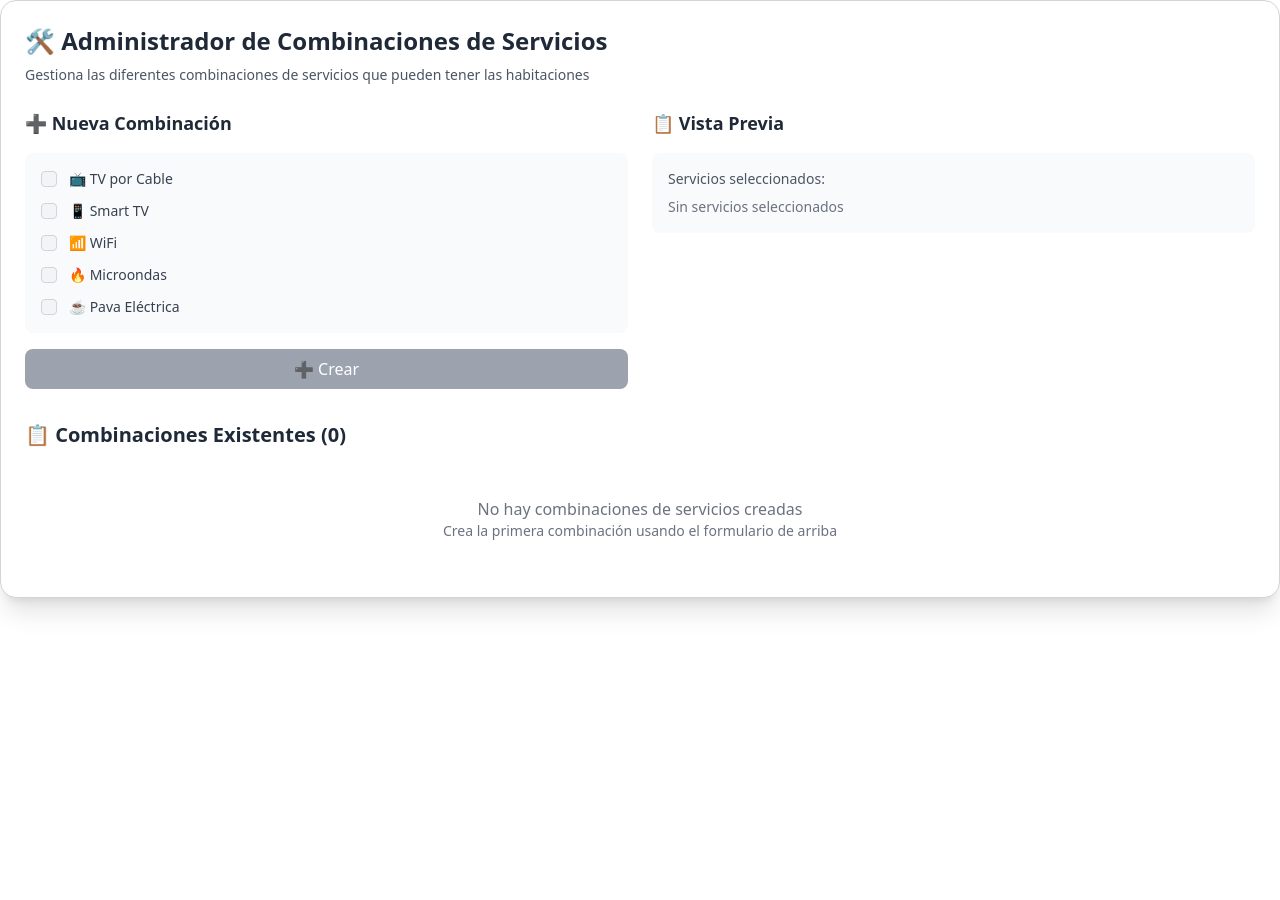
it: RoomDetailForm › muestra error si la combinación ya existe
Click the checkbox labelled "📶 WiFi".
click(49, 243)  # box [41, 235, 57, 251]
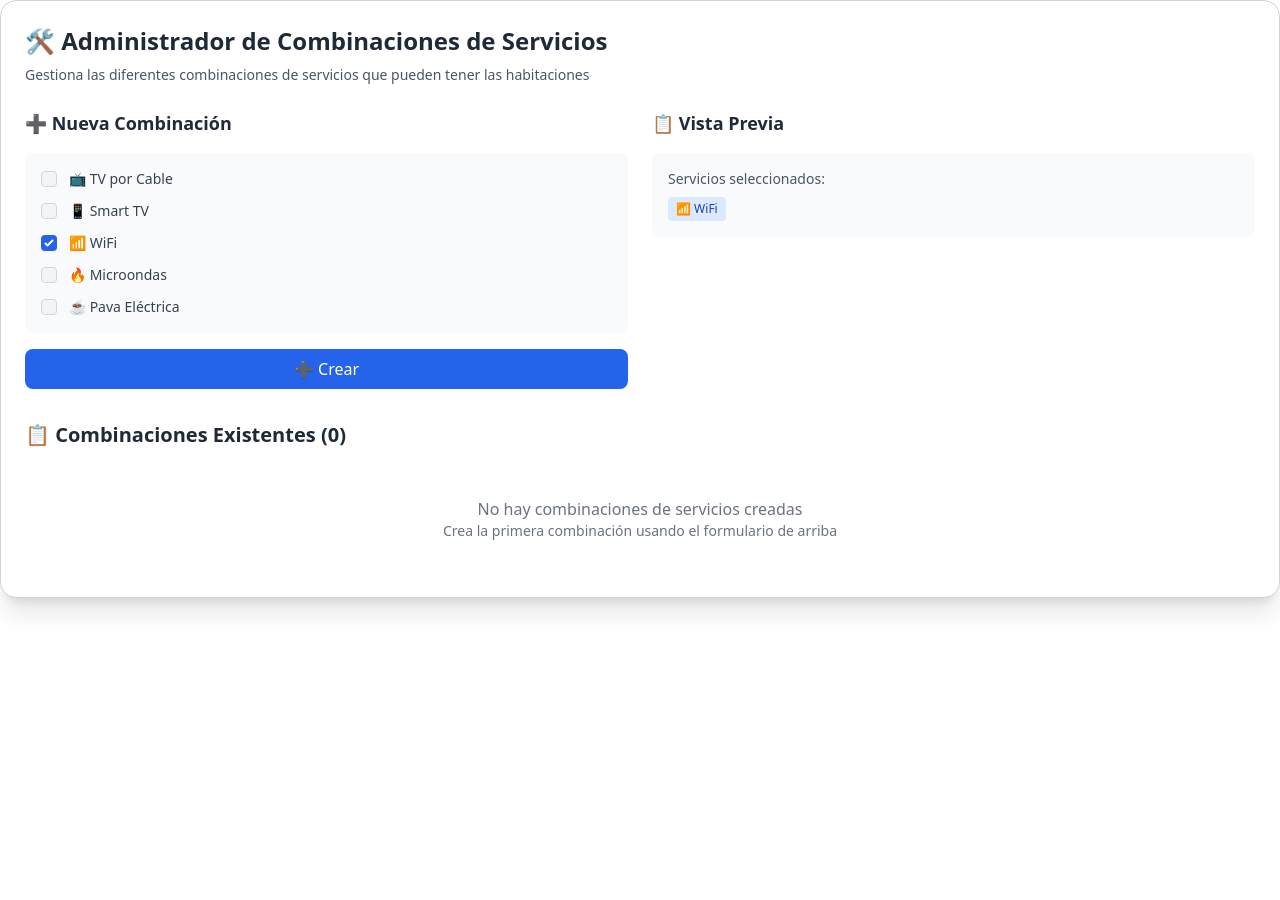
Click the button "➕ Crear".
click(326, 369)  # box [25, 349, 628, 389]
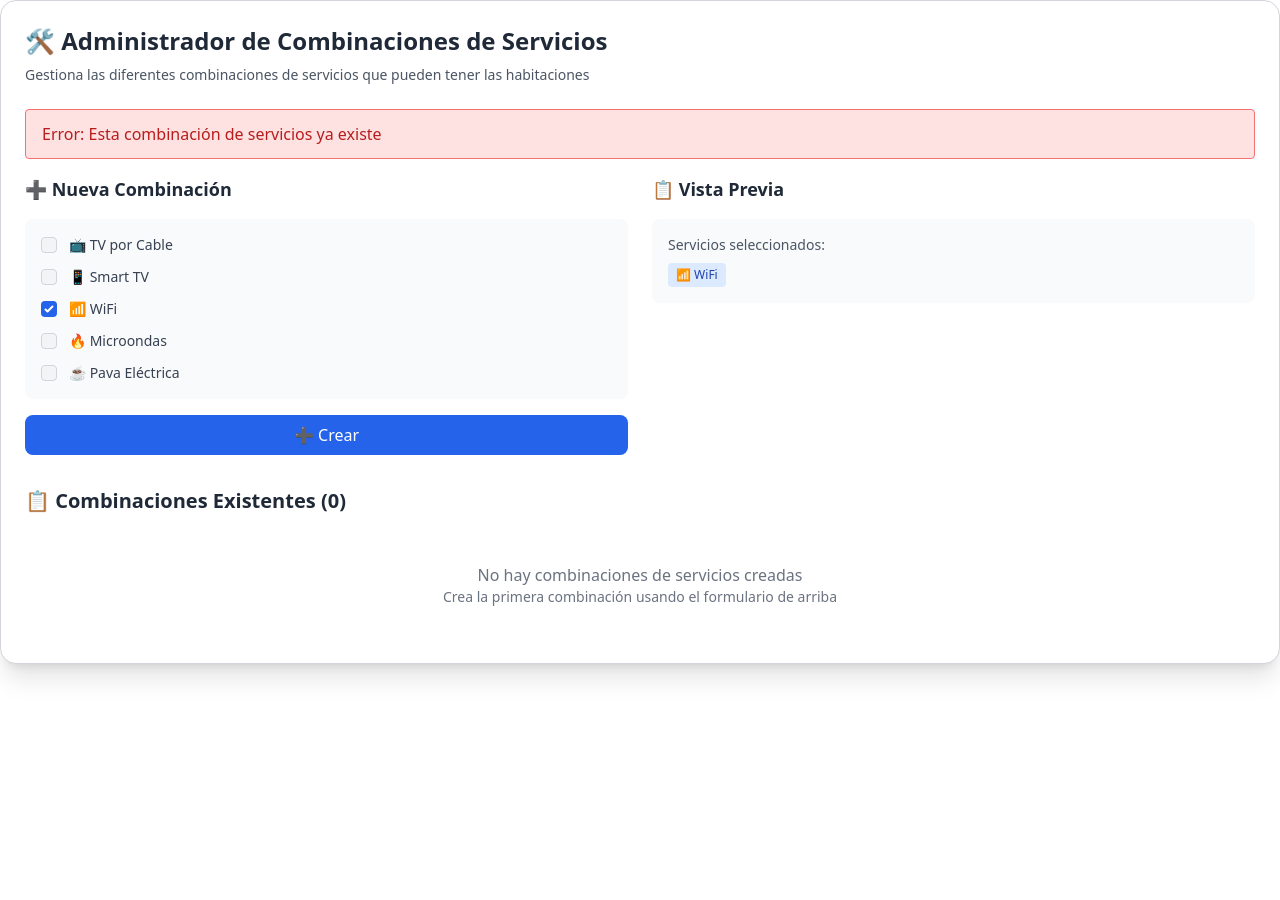
Check: the text "Error: Esta combinación de servicios ya existe" is shown, box [25, 109, 1255, 159]
